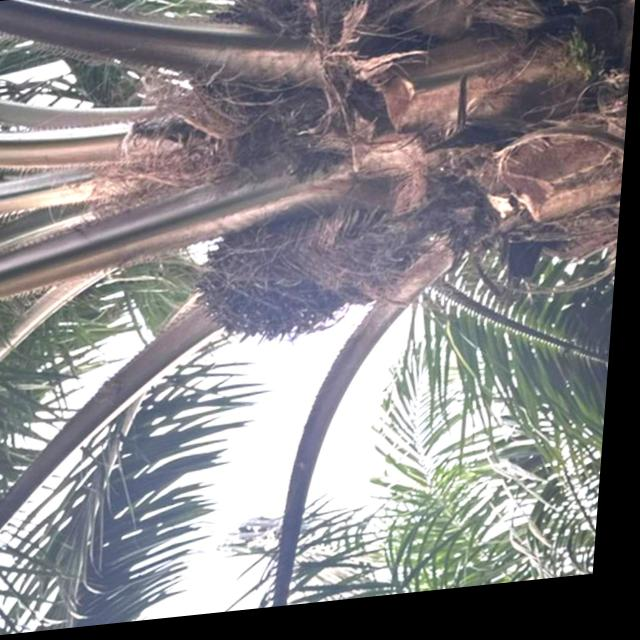unripe: (194, 218, 366, 358)
